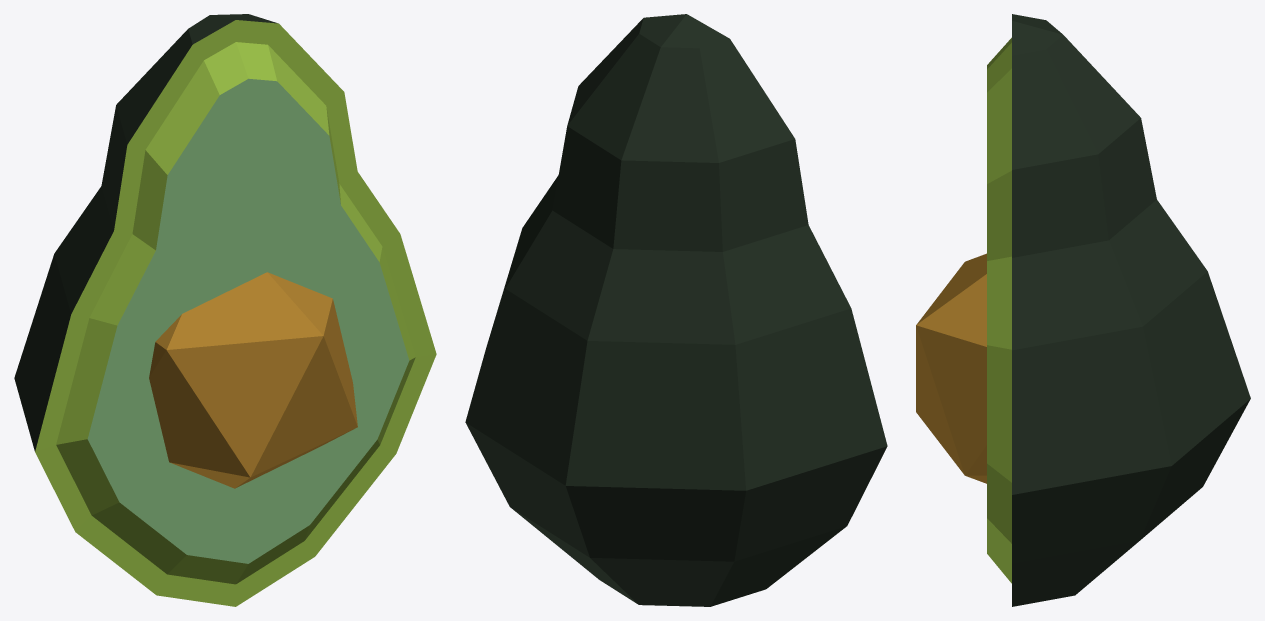
File: Avocado Slice.fbx
3 renders of one model, left to right at view 1: azimuth 30°, elevation 25°; view 2: azimuth 150°, elevation 25°; view 3: azimuth 270°, elevation 25°, orthographic.
Parts seen in each view (by area): view 1: Avocado Slice; view 2: Avocado Slice; view 3: Avocado Slice.
Part boxes in pixels (box(x1,y1,x2,y2)): Avocado Slice: box(14, 14, 436, 606); Avocado Slice: box(465, 14, 887, 606); Avocado Slice: box(916, 14, 1250, 606).
Bounding box in the file's own units: 8.15 × 11.39 × 5.97.
